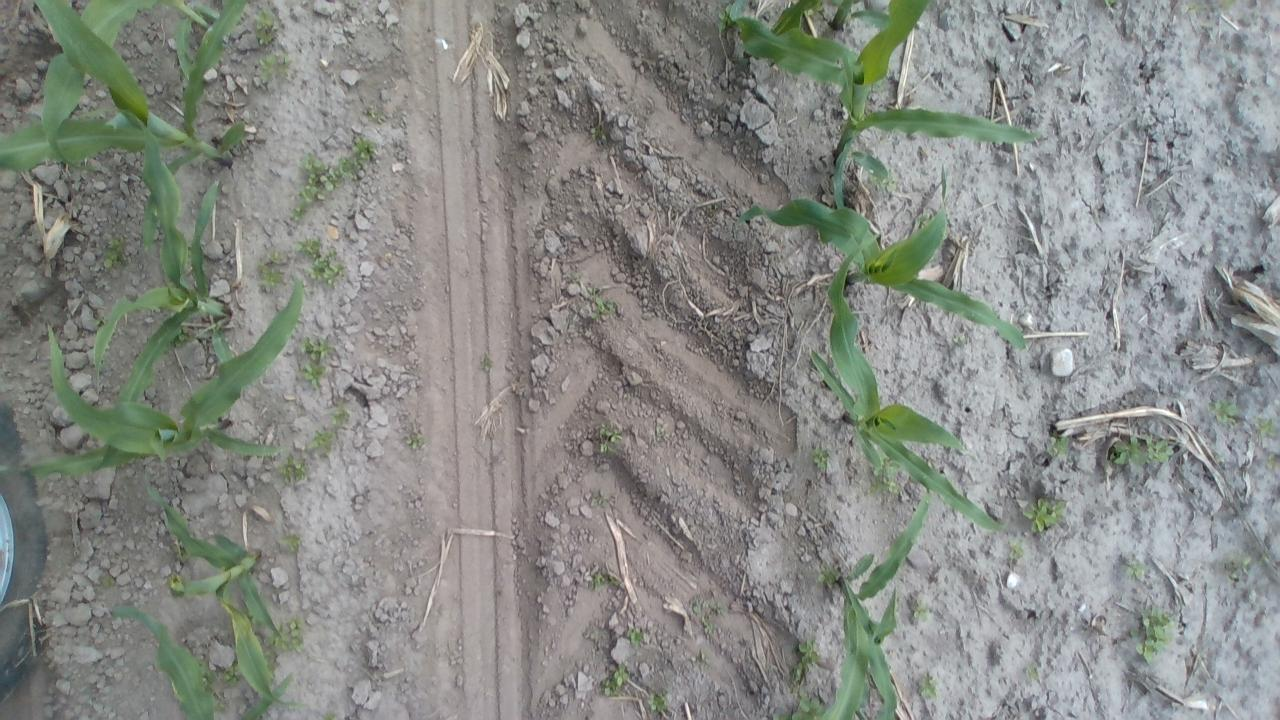Maize: (720, 0, 1040, 210), (804, 222, 1010, 542), (732, 164, 1034, 371), (11, 0, 246, 252), (14, 285, 302, 486), (88, 113, 237, 470), (137, 470, 303, 718), (39, 0, 223, 180), (806, 482, 934, 720), (106, 605, 296, 720), (726, 0, 891, 48)
Weeds: (293, 142, 372, 212), (1130, 604, 1176, 664), (1106, 431, 1172, 471), (298, 333, 336, 388), (302, 245, 346, 289), (789, 636, 824, 690), (337, 136, 378, 182), (266, 612, 306, 656), (1021, 496, 1066, 534), (868, 454, 902, 500), (689, 596, 726, 637), (256, 252, 288, 290), (585, 280, 615, 319), (258, 48, 294, 80), (595, 421, 627, 456), (252, 9, 280, 46), (99, 239, 130, 270), (278, 452, 306, 486), (602, 664, 632, 694), (1222, 552, 1253, 580), (792, 694, 824, 718), (1210, 400, 1240, 425), (911, 595, 936, 623), (716, 2, 740, 31), (311, 426, 337, 452), (172, 324, 196, 352), (1122, 556, 1148, 581), (917, 672, 940, 700), (648, 690, 674, 714), (362, 102, 389, 124), (329, 402, 352, 427), (816, 561, 839, 586), (1047, 435, 1074, 456), (872, 172, 900, 192), (586, 572, 614, 592), (220, 662, 243, 686), (809, 447, 833, 469), (625, 627, 648, 648), (280, 532, 302, 553), (202, 660, 218, 688), (1023, 663, 1045, 683), (288, 200, 308, 222), (1007, 536, 1026, 559), (1256, 417, 1276, 438), (405, 429, 425, 450), (166, 572, 185, 594), (589, 490, 613, 507), (690, 650, 712, 668), (174, 544, 192, 566), (478, 352, 496, 373), (589, 124, 606, 144), (1184, 1, 1205, 17), (99, 572, 117, 590), (918, 210, 934, 230), (562, 270, 583, 285), (652, 426, 669, 443), (1218, 0, 1239, 13), (950, 332, 966, 348), (1264, 451, 1276, 472), (320, 709, 340, 720), (92, 316, 106, 330), (1104, 0, 1118, 8)
